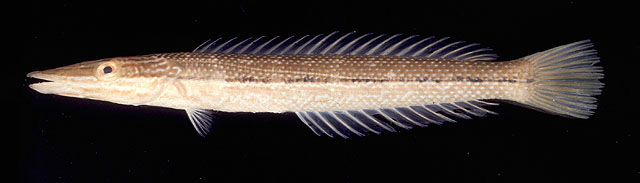fish: (28, 32, 605, 137)
